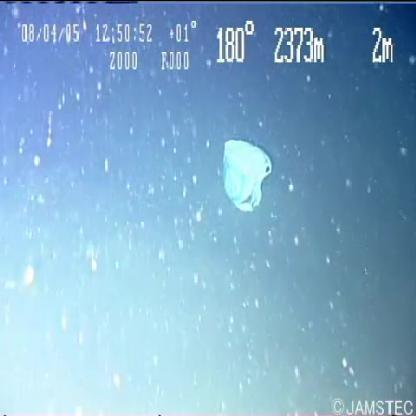Rác: (220, 137, 273, 220)
